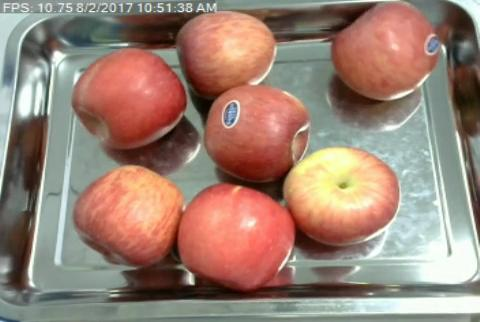apple: (177, 181, 294, 290), (284, 146, 401, 246), (74, 48, 183, 149), (74, 165, 181, 265), (331, 2, 439, 100), (204, 87, 309, 181), (175, 11, 275, 91)
